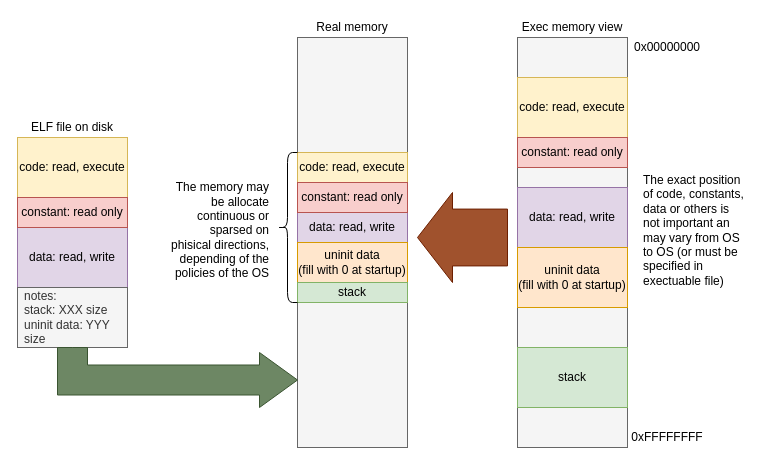
Some shapes in this 765 by 465 pixel diagram are drawn without their labels. The shapes that lost their labels are listed below. From the top down, each one's centre as x and y in pixels, then its label:
At point 462,237: "MMU Pocess".
At point 177,377: "load from disk to memory".
